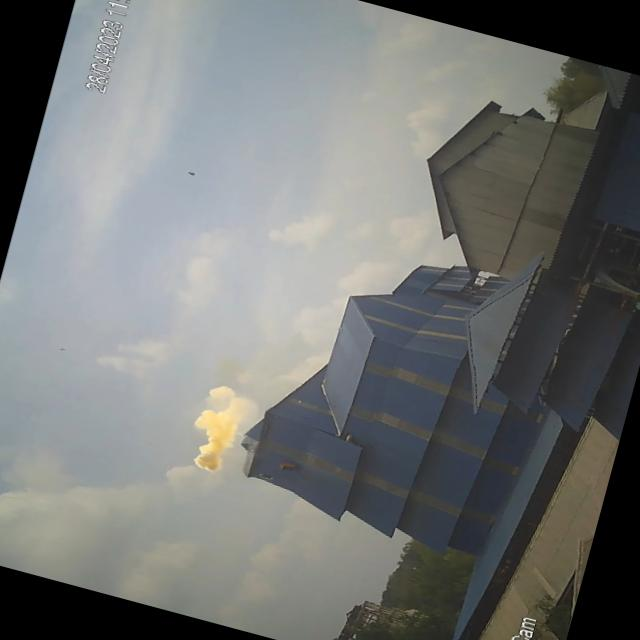yellow smoke: (179, 378, 260, 479)
